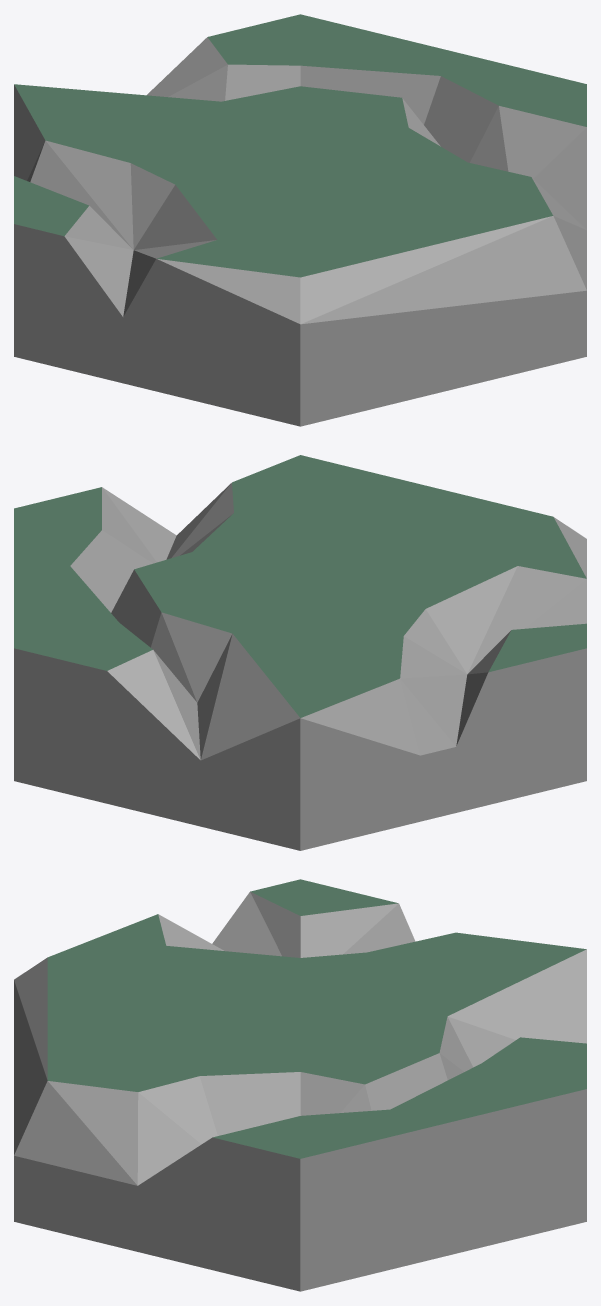
The model's file is Hex05.fbx.
3 renders of one model, top to bottom at view 1: azimuth 30°, elevation 25°; view 2: azimuth 150°, elevation 25°; view 3: azimuth 270°, elevation 25°, orthographic.
Visible parts, largest first — view 1: Hex06; view 2: Hex06; view 3: Hex06.
Part boxes in pixels (x1,y1,x2,y2): Hex06: (14, 14, 586, 426); Hex06: (14, 455, 586, 850); Hex06: (14, 879, 586, 1291).
Bounding box in the file's own units: 1.67 × 0.3694 × 1.44.
